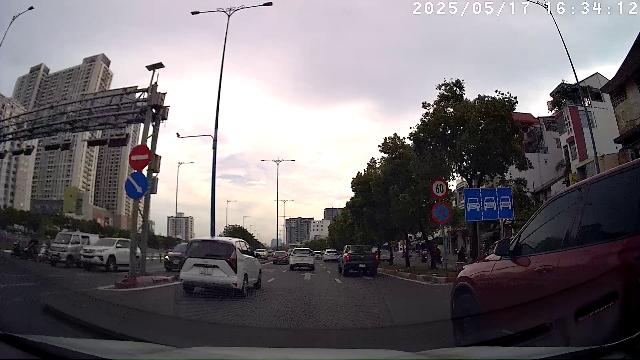102-cam-di-nguoc-chieu: (128, 144, 152, 171)
127-toc-do-toi-da-60: (429, 178, 449, 199)
130-cam-dung-va-do-xe: (431, 201, 452, 225)
302a-huong-phai-di-vong-chuong-ngai-vat-1: (124, 171, 148, 199)
